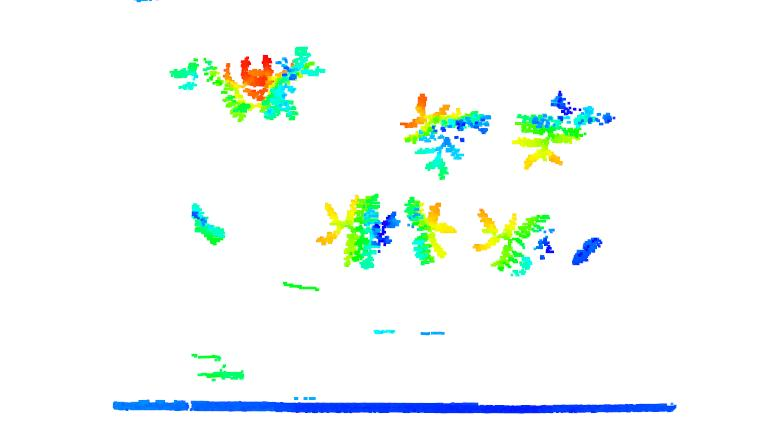chickpea: (397, 93, 491, 179), (512, 93, 610, 170), (313, 192, 399, 270), (246, 45, 327, 119), (471, 206, 554, 277), (168, 55, 251, 123), (403, 195, 458, 268), (186, 199, 228, 247)
